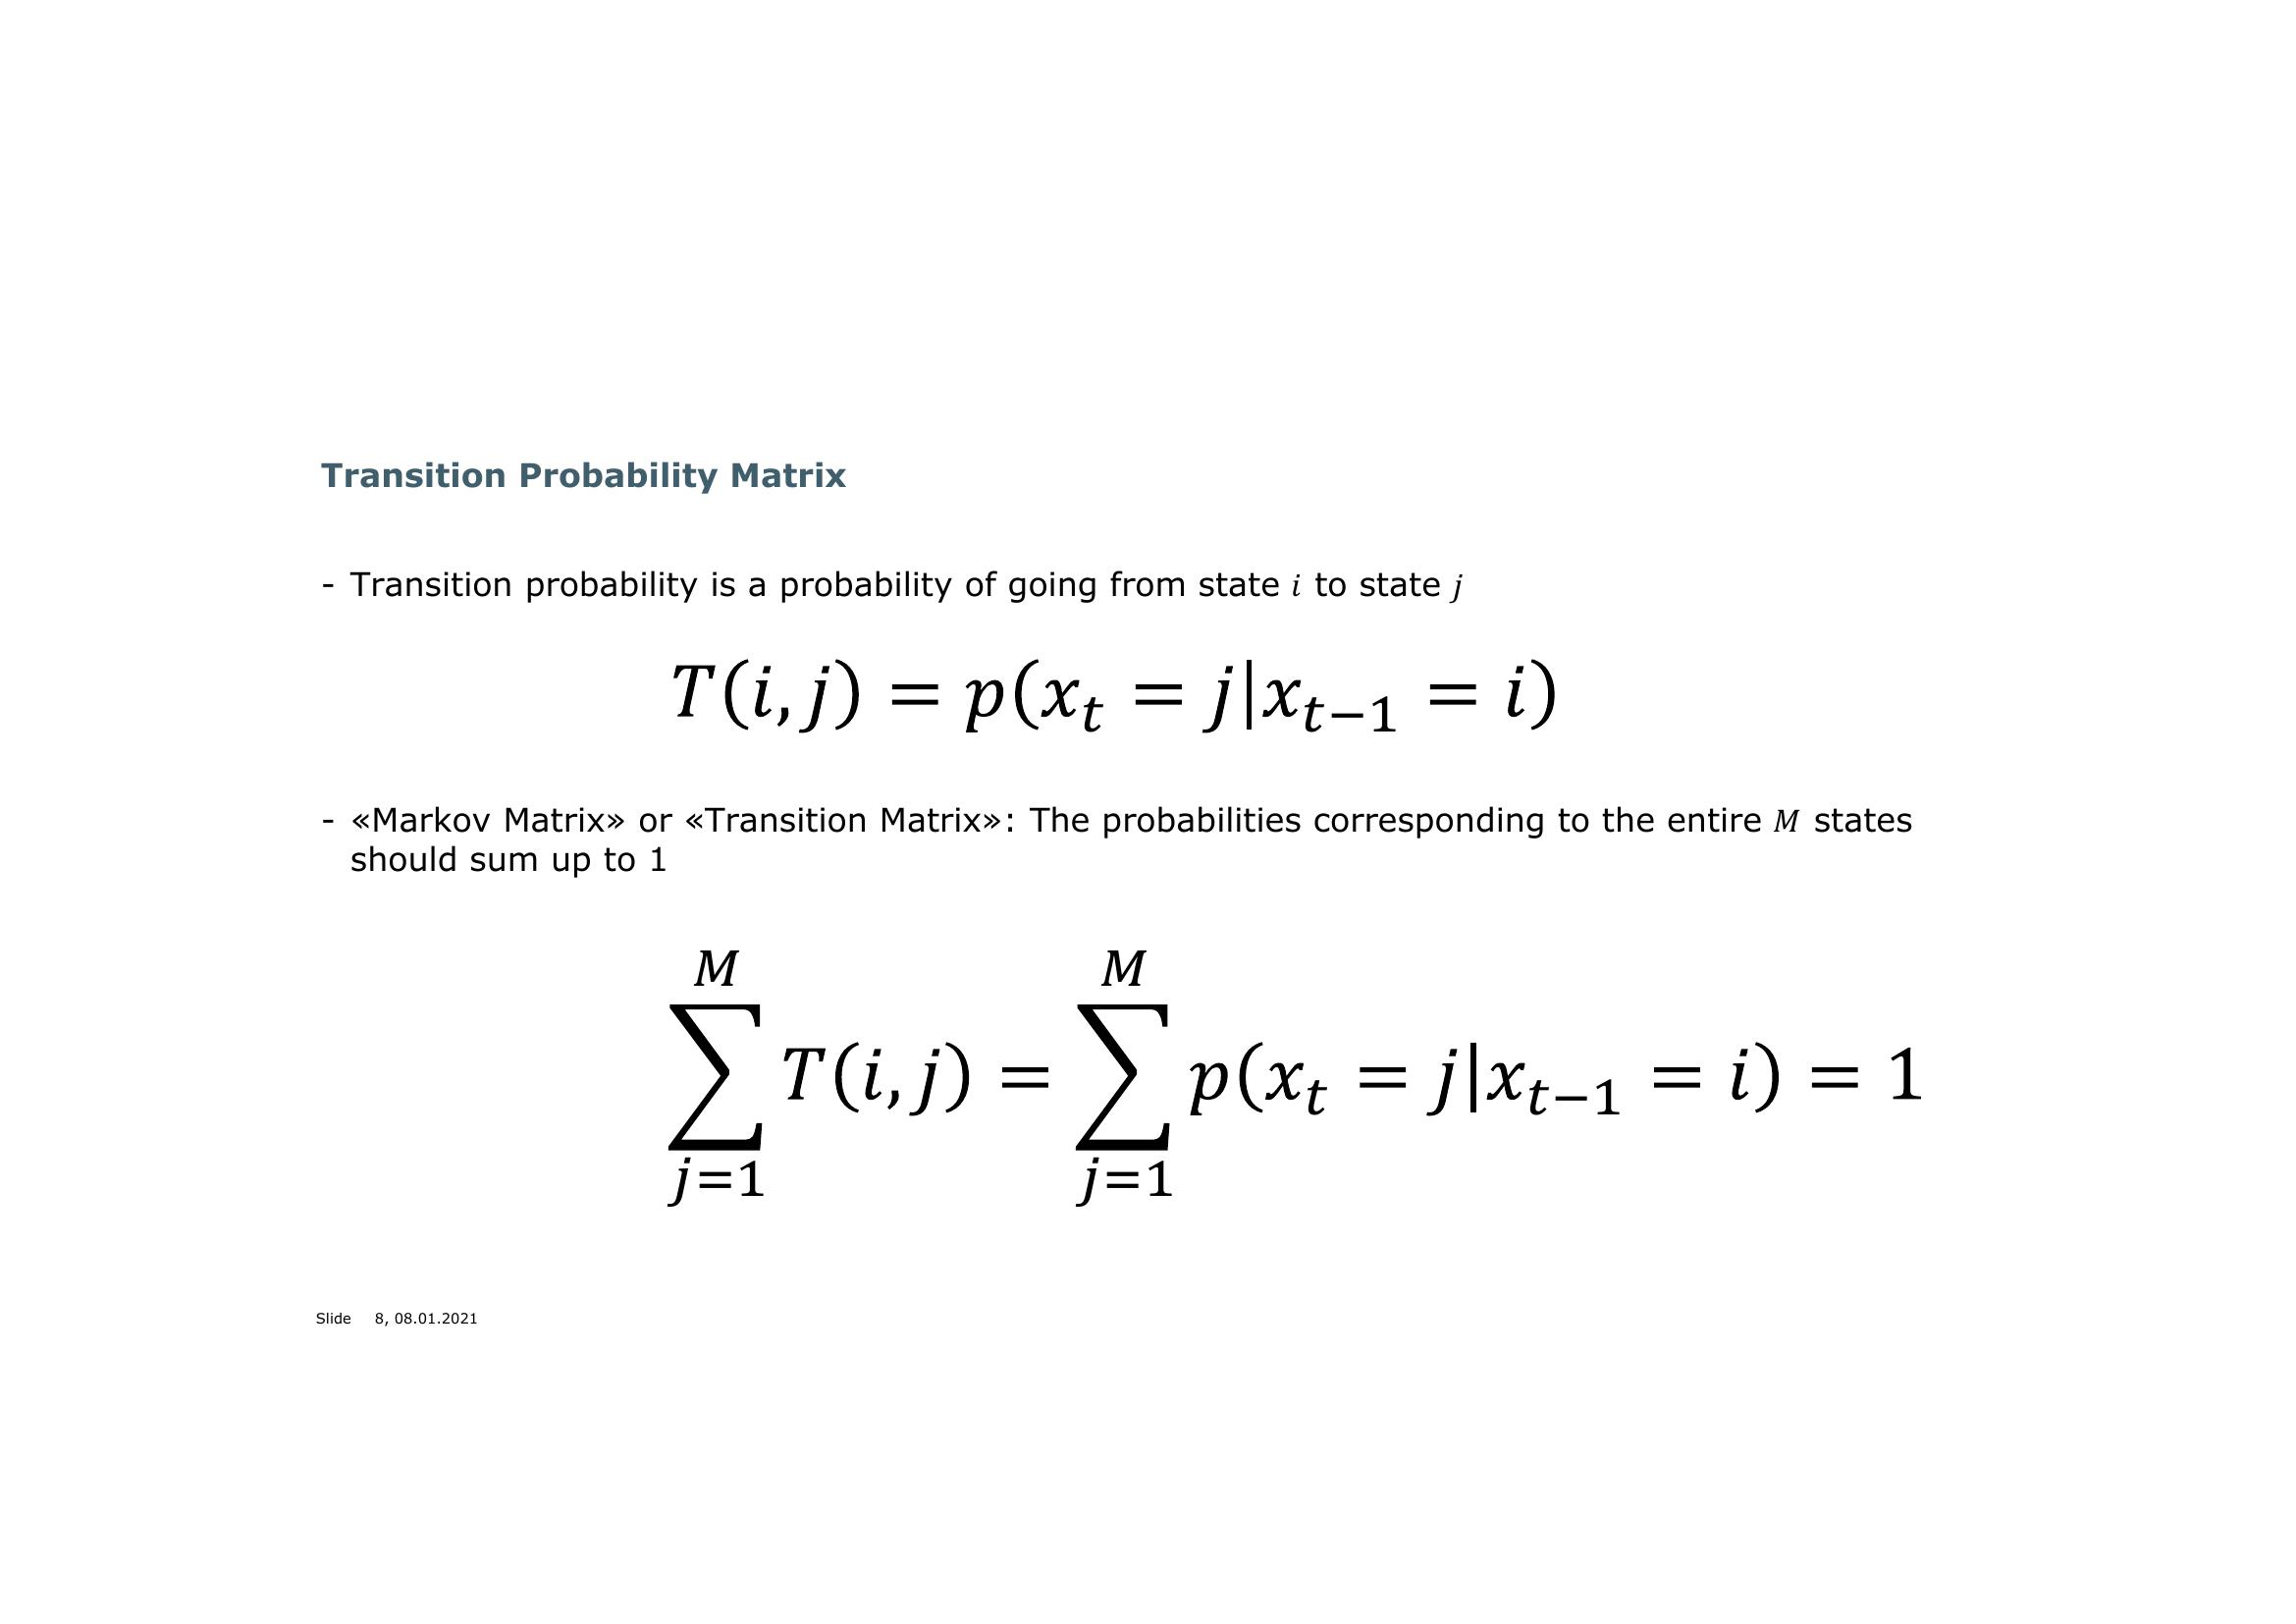Title: (299, 453, 852, 501)
